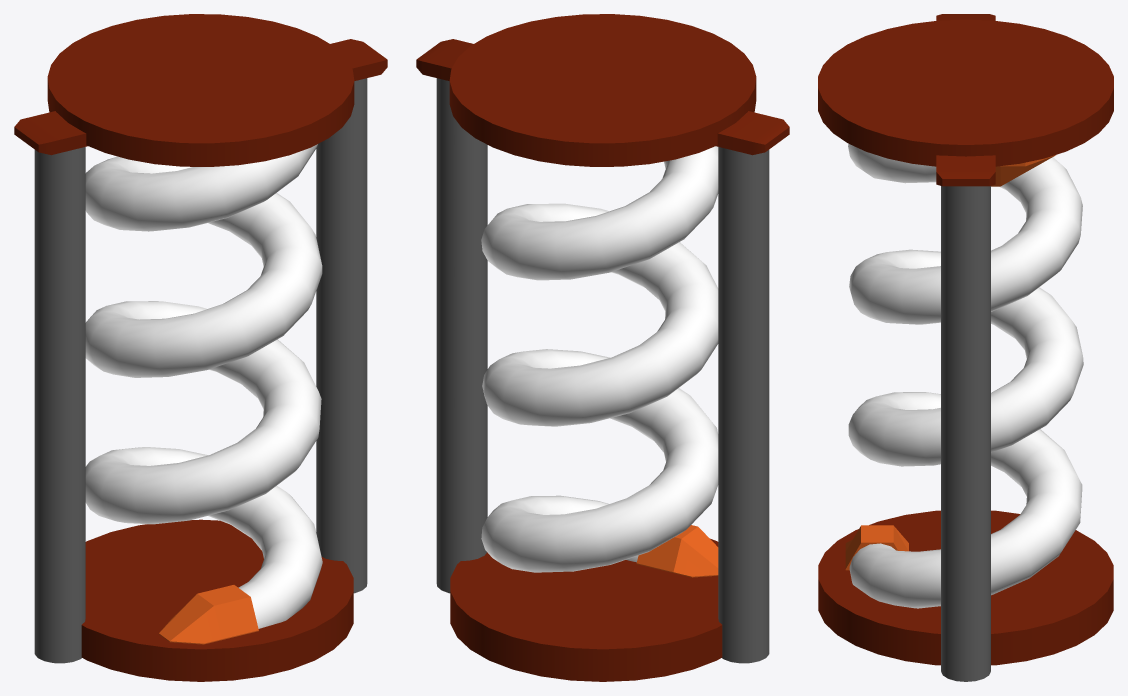
File: GR_mixmachineneresultstand.fbx
3 renders of one model, left to right at view 1: azimuth 30°, elevation 25°; view 2: azimuth 150°, elevation 25°; view 3: azimuth 270°, elevation 25°, orthographic. The views are drawn at different scales.
Parts seen in each view (by area): view 1: Cylinder_5, Cylinder, Cylinder_2, Cylinder_3, Cube; view 2: Cylinder_5, Cylinder, Cylinder_2, Cylinder_3, Cube; view 3: Cylinder_5, Cylinder_2, Cylinder, Cylinder_3, Cube.
Part boxes in pixels (bbox=[...]): Cylinder_5: bbox=[85, 144, 322, 628]; Cylinder: bbox=[34, 78, 367, 663]; Cylinder_2: bbox=[14, 14, 387, 166]; Cylinder_3: bbox=[81, 519, 353, 681]; Cube: bbox=[159, 585, 258, 644]; Cylinder_5: bbox=[481, 146, 718, 572]; Cylinder: bbox=[436, 78, 769, 663]; Cylinder_2: bbox=[416, 14, 789, 166]; Cylinder_3: bbox=[450, 538, 722, 681]; Cube: bbox=[636, 525, 718, 577]; Cylinder_5: bbox=[848, 144, 1083, 608]; Cylinder_2: bbox=[818, 14, 1113, 186]; Cylinder: bbox=[941, 186, 990, 681]; Cylinder_3: bbox=[818, 510, 1113, 665]; Cube: bbox=[845, 155, 1055, 570].
Bounding box in the file's own units: 69.37 × 102 × 52.61.
